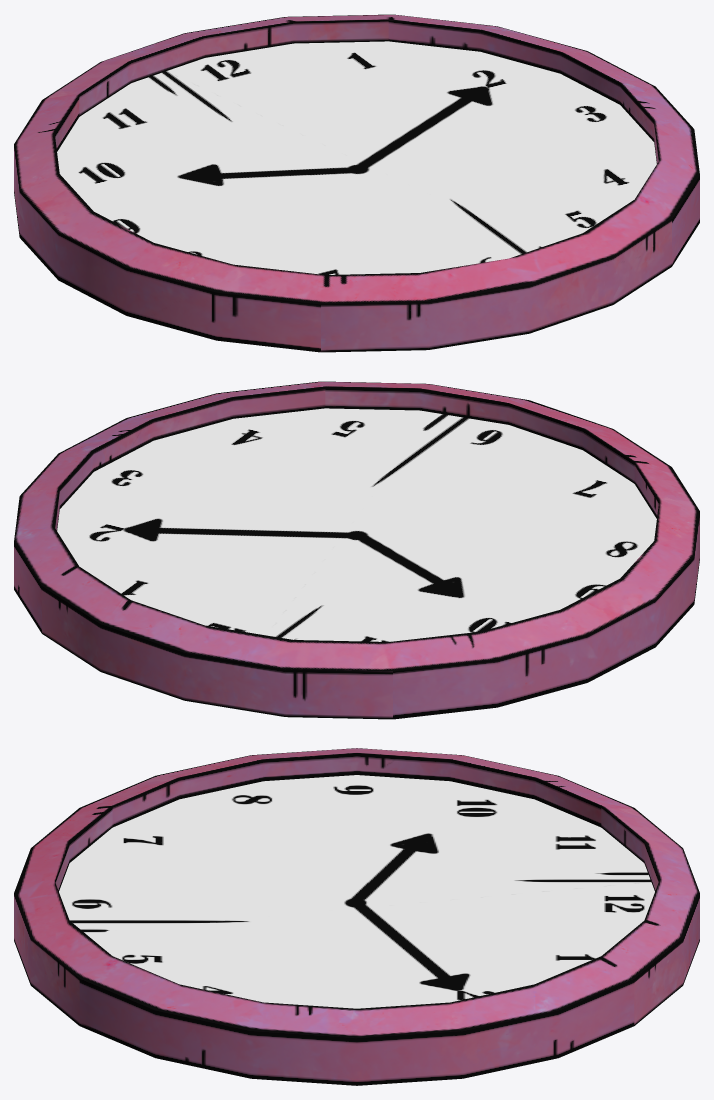
Rendered from clock.fbx.
3 renders of one model, top to bottom at view 1: azimuth 30°, elevation 25°; view 2: azimuth 150°, elevation 25°; view 3: azimuth 270°, elevation 25°, orthographic.
Parts seen in each view (by area): view 1: clock; view 2: clock; view 3: clock.
Boxes of the visible parts, x1,y1,x2,y2 form: clock: (14, 14, 699, 352); clock: (14, 381, 699, 719); clock: (14, 748, 699, 1085).
Size of the model in its own units: 0.5017 by 0.0483 by 0.5017.
1 material, 1 textured.
